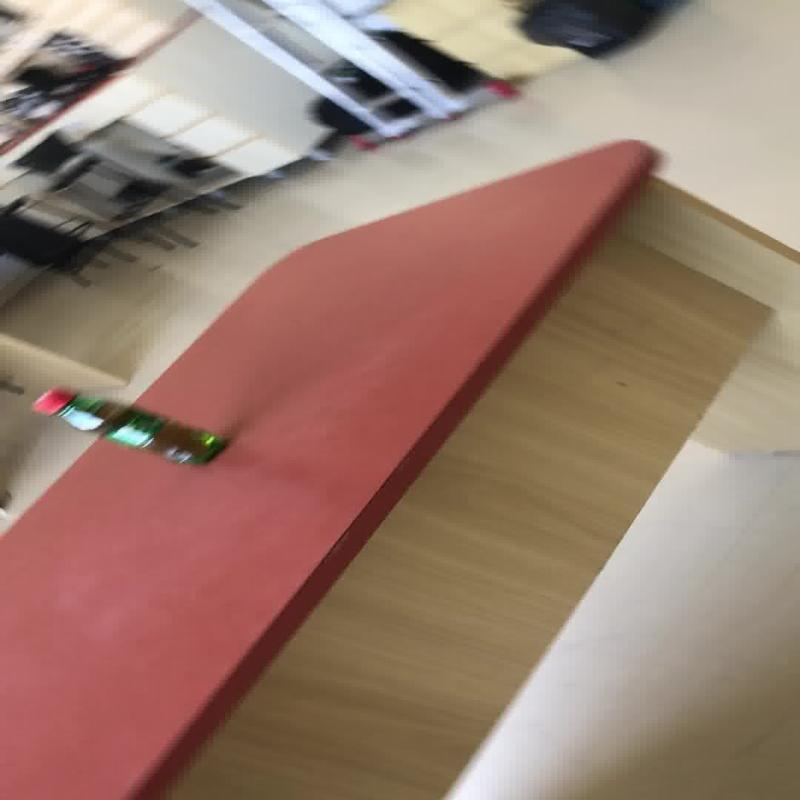guarana: (30, 386, 228, 466)
